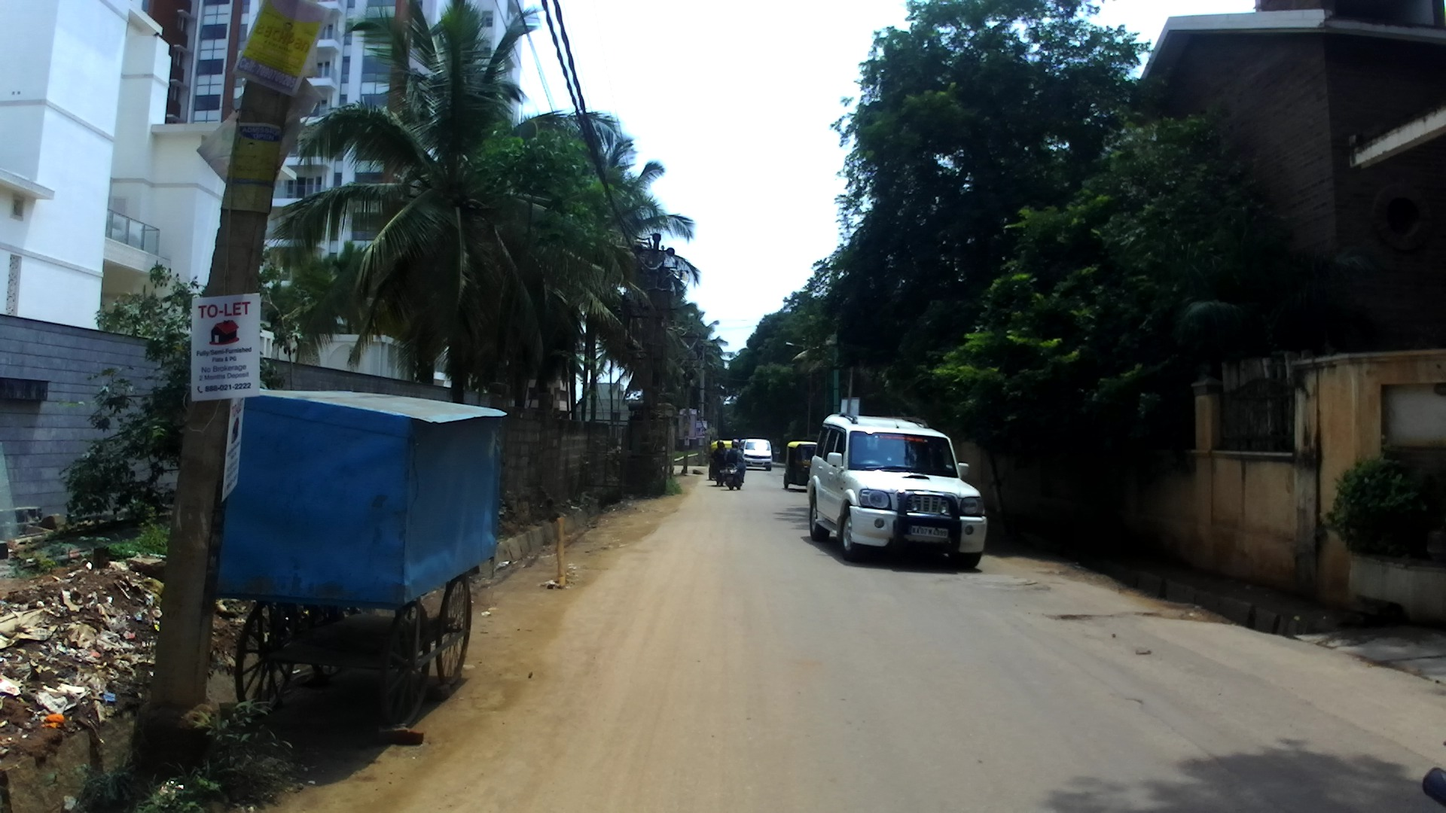autorickshaw: (783, 441, 818, 489), (709, 440, 738, 480)
bicycle: (773, 451, 780, 463)
car: (807, 413, 988, 569), (740, 439, 773, 470)
motorcycle: (1417, 763, 1444, 812), (722, 460, 748, 490), (710, 455, 728, 486)
rider: (724, 439, 745, 483), (709, 440, 728, 478), (774, 444, 780, 458)
vehicle fallback: (213, 389, 509, 734), (739, 439, 748, 449)
